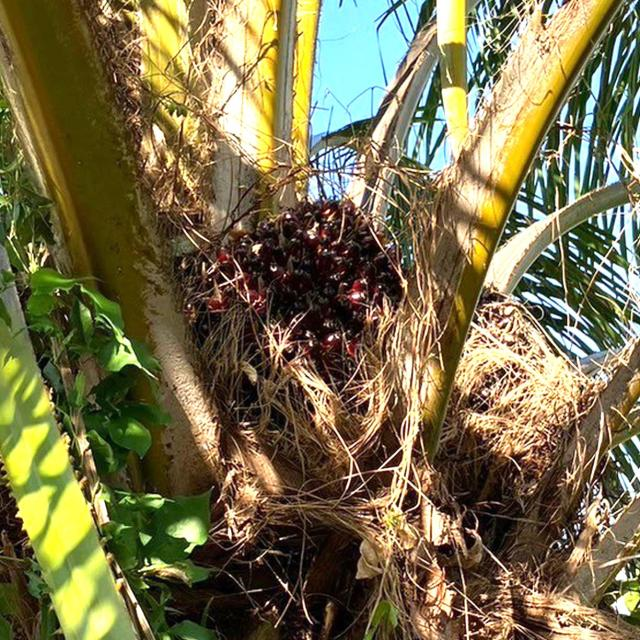ripe: (188, 180, 417, 461)
